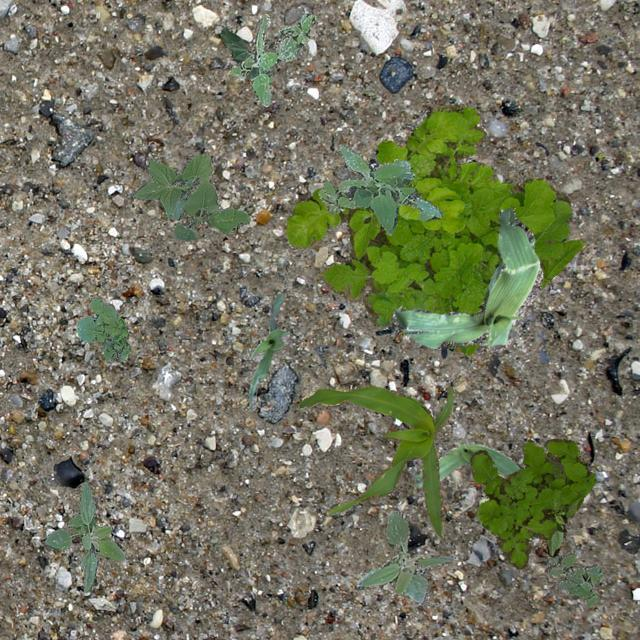crop: (298, 384, 452, 540), (391, 206, 542, 350), (412, 442, 522, 486), (248, 292, 288, 408), (220, 26, 258, 78), (540, 508, 566, 556)
weed: (286, 105, 582, 354), (468, 438, 594, 568), (318, 142, 442, 234), (132, 153, 250, 240), (44, 481, 125, 592), (356, 509, 450, 604), (229, 12, 315, 106), (76, 296, 130, 362), (546, 550, 602, 606)
